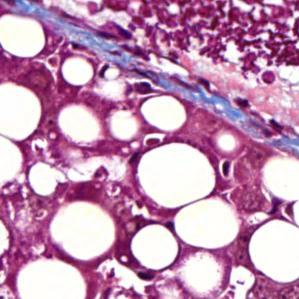steatosis: (135, 139, 218, 208), (140, 95, 197, 134)
